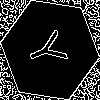Y: (25, 25, 76, 73)
